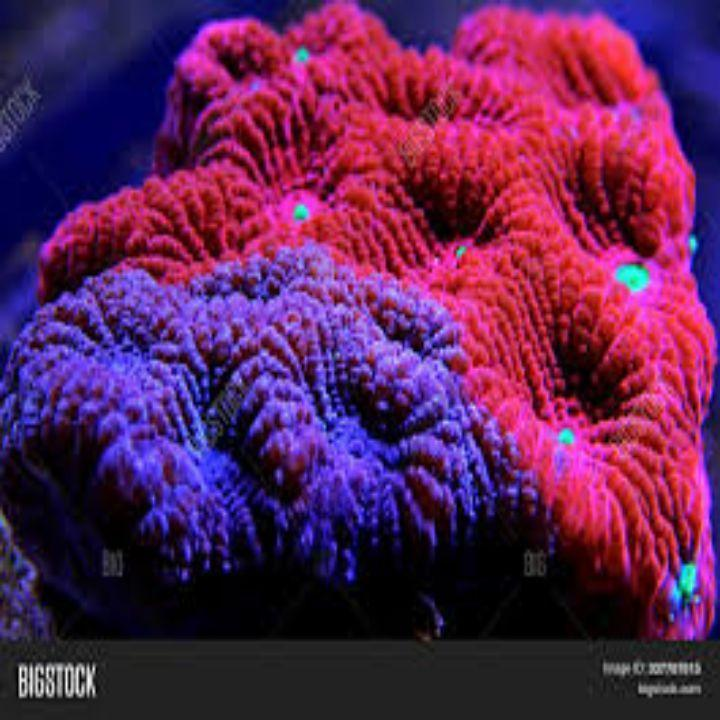Healthy Coral: (58, 27, 695, 587)
